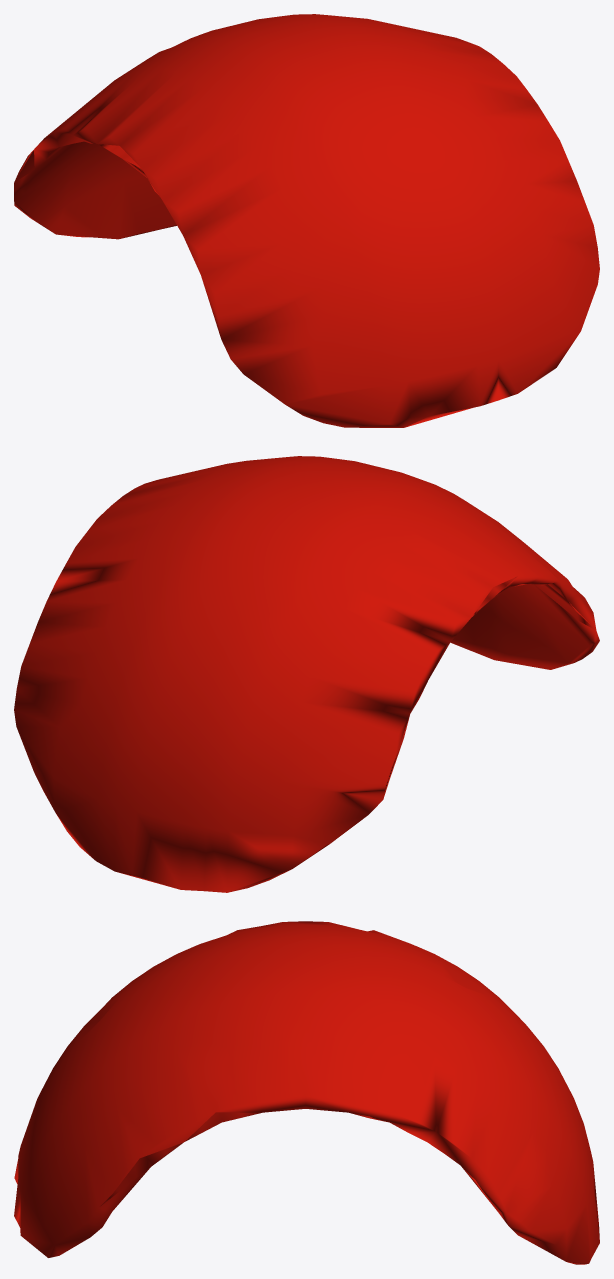
The model's file is Nao6_Head_Orange.obj.
3 renders of one model, top to bottom at view 1: azimuth 30°, elevation 25°; view 2: azimuth 150°, elevation 25°; view 3: azimuth 270°, elevation 25°, orthographic. The views are drawn at different scales.
Parts seen in each view (by area): view 1: Nao6_Head_Orange; view 2: Nao6_Head_Orange; view 3: Nao6_Head_Orange.
Boxes of the visible parts, bbox=[...] form: Nao6_Head_Orange: bbox=[14, 14, 599, 427]; Nao6_Head_Orange: bbox=[14, 456, 599, 892]; Nao6_Head_Orange: bbox=[14, 921, 599, 1264].
Size of the model in its own units: 0.5564 by 0.4116 by 0.7724.
